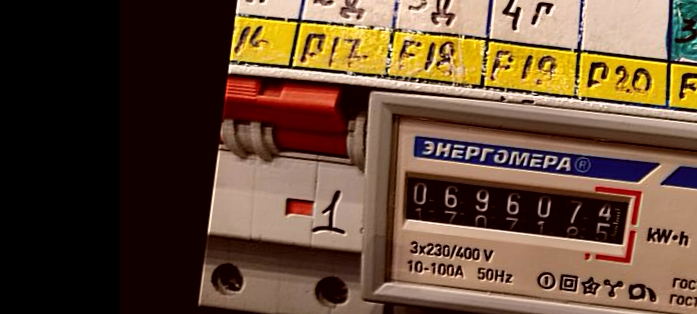0: (411, 179, 432, 206), (536, 192, 555, 220)
4: (598, 199, 615, 222)
5: (596, 221, 612, 242)
6: (505, 188, 525, 217), (442, 182, 463, 209)
7: (567, 197, 586, 225)
9: (473, 186, 494, 214)
screen: (393, 157, 647, 265)
